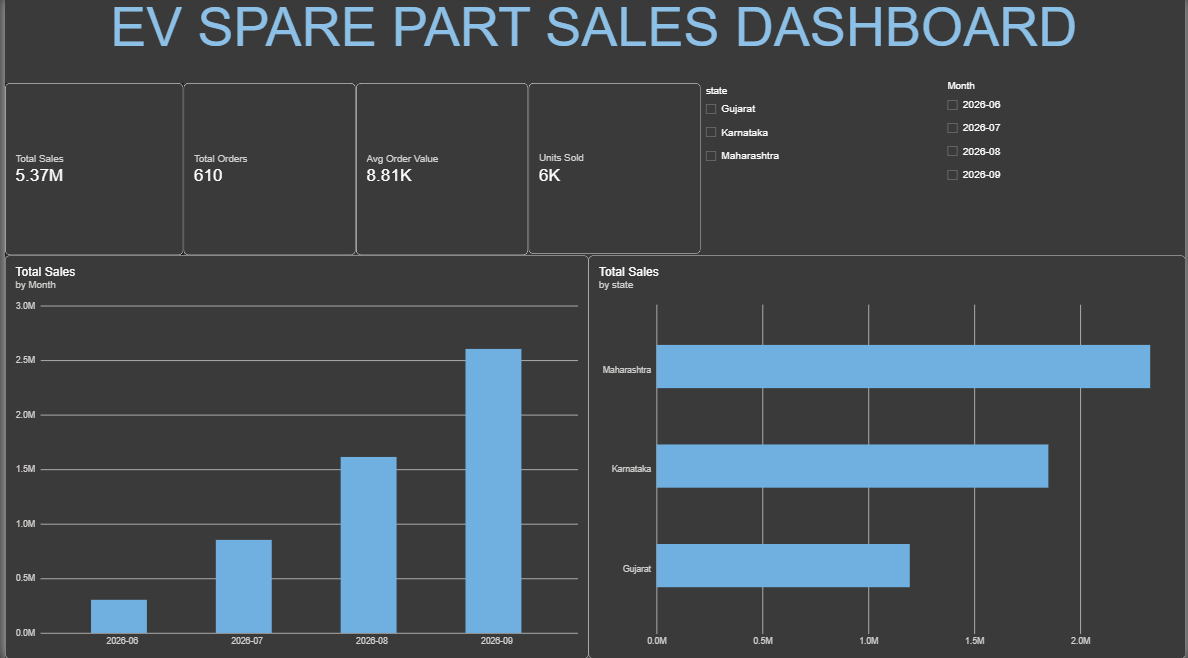

Layout of this report page (visuals, bound fields, positions):
{"tool":"powerbi","page":{"name":"Sales Overview","canvas":[1920,1080],"ordinal":0},"visuals":[{"type":"cardVisual","fields":{"Data":["order_items.Total Sales"]},"box":[0,141.5,290.3,280.6],"z":0},{"type":"cardVisual","fields":{"Data":["order_items.Total Orders"]},"box":[290.3,141.5,280,280],"z":1000},{"type":"cardVisual","fields":{"Data":["order_items.Avg Order Value"]},"box":[570.9,141.5,280,280],"z":2000},{"type":"cardVisual","fields":{"Data":["order_items.Units Sold"]},"box":[851.5,141.5,280.6,278.1],"z":3000},{"type":"clusteredColumnChart","fields":{"Category":["orders.Month"],"Y":["order_items.Total Sales"]},"box":[0,422.1,949.1,656.3],"z":4000},{"type":"clusteredBarChart","fields":{"Category":["cities.state"],"Y":["order_items.Total Sales"]},"box":[949.1,422.1,971,656.3],"z":5000},{"type":"slicer","fields":{"Values":["cities.state"]},"box":[1132.1,143.9,392.8,278.1],"z":6000},{"type":"slicer","fields":{"Values":["orders.Month"]},"box":[1524.9,136.6,395.3,283],"z":7000},{"type":"textbox","box":[0,930,949,150],"z":8000},{"type":"textbox","box":[949,930,971,150],"z":9000},{"type":"textbox","box":[0,0,1920.1,141.5],"z":14000}]}

Visuals, with their boxes in screenshot pixels (x1, y1, x2, y2), scaled from the page's 1920x1080 canvas onto the 1188x658 screenshot:
cardVisual - order_items.Total Sales: (0, 86, 180, 257)
cardVisual - order_items.Total Orders: (180, 86, 353, 257)
cardVisual - order_items.Avg Order Value: (353, 86, 526, 257)
cardVisual - order_items.Units Sold: (527, 86, 700, 256)
clusteredColumnChart - orders.Month x order_items.Total Sales: (0, 257, 587, 657)
clusteredBarChart - cities.state x order_items.Total Sales: (587, 257, 1187, 657)
slicer - cities.state: (700, 88, 944, 257)
slicer - orders.Month: (944, 83, 1187, 256)
textbox: (0, 567, 587, 657)
textbox: (587, 567, 1187, 657)
textbox: (0, 0, 1187, 86)
